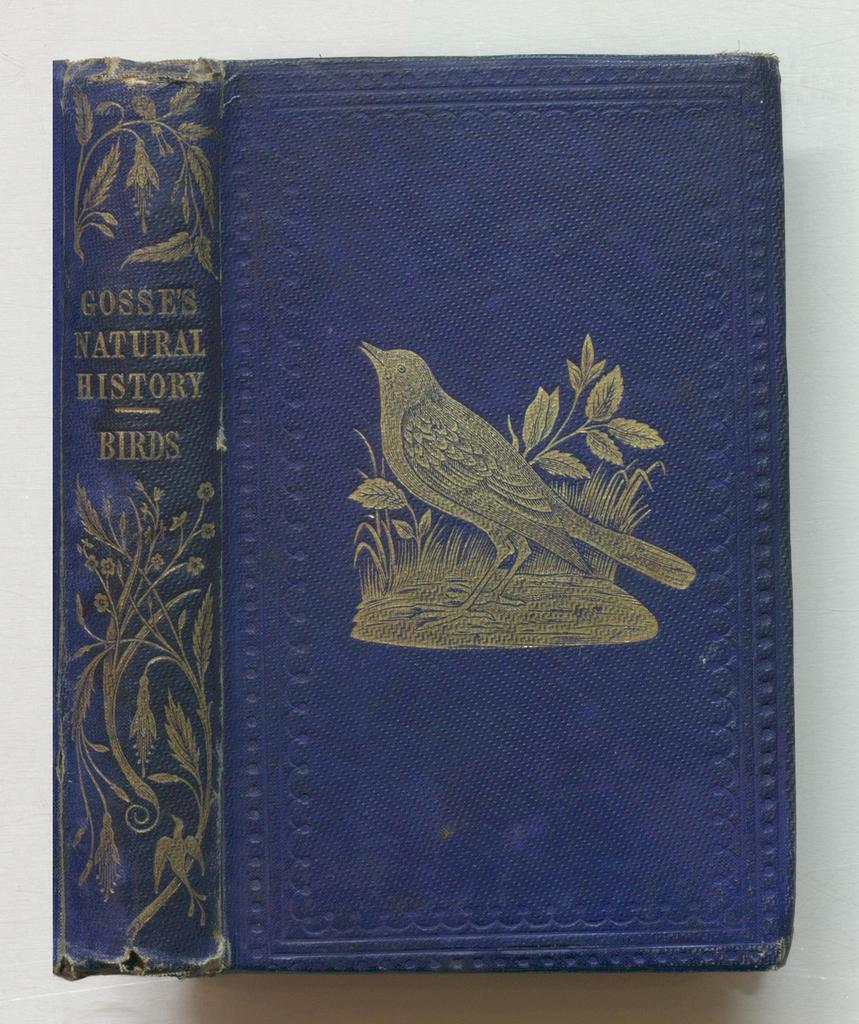book: (39, 44, 813, 987)
